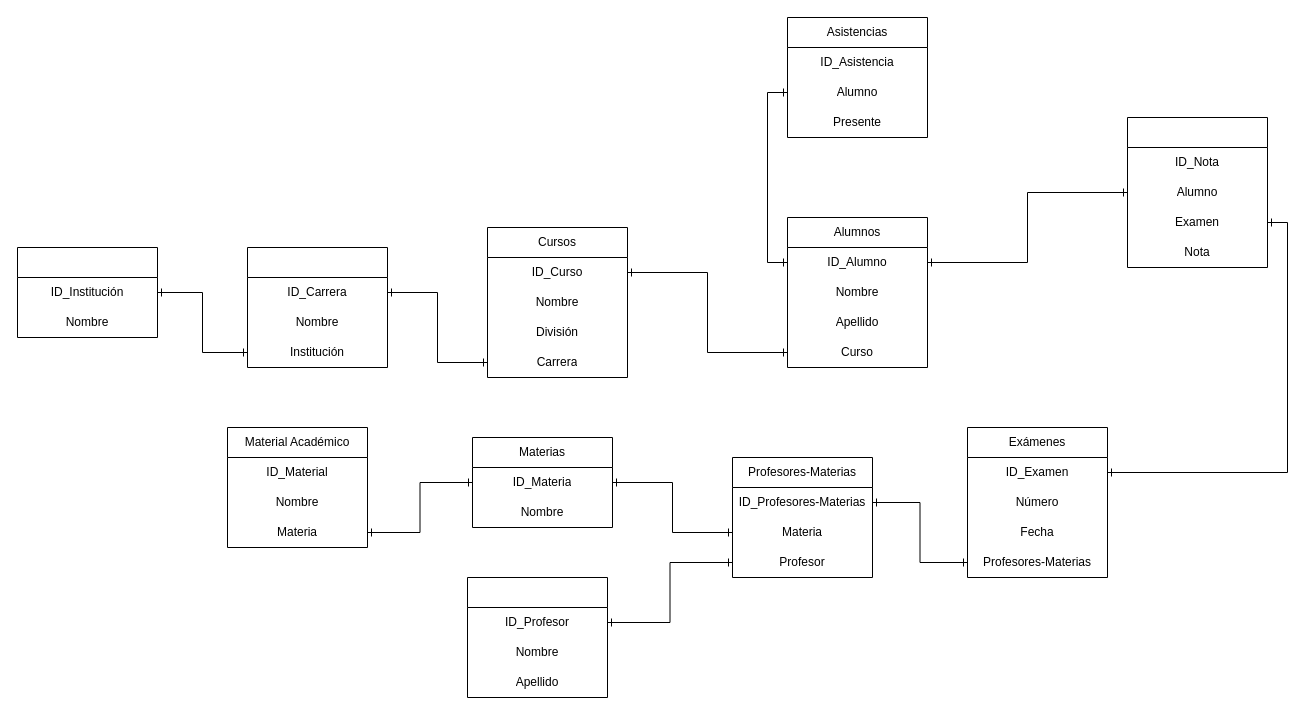
This 1314x715 diagram has some shape labels left out. The shapes that lost their labels are listed below. From the top down, each one's box as (x1, y1, x2, y2) in pixels, then its label:
(1126, 116, 1268, 268): Notas
(16, 246, 158, 338): Instituciones
(246, 246, 388, 368): Carreras
(466, 576, 608, 698): Profesores
